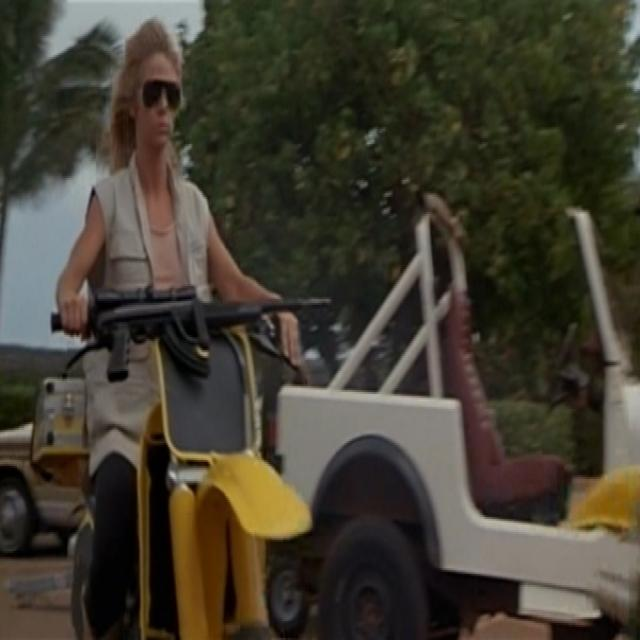rifle: (97, 273, 334, 386)
